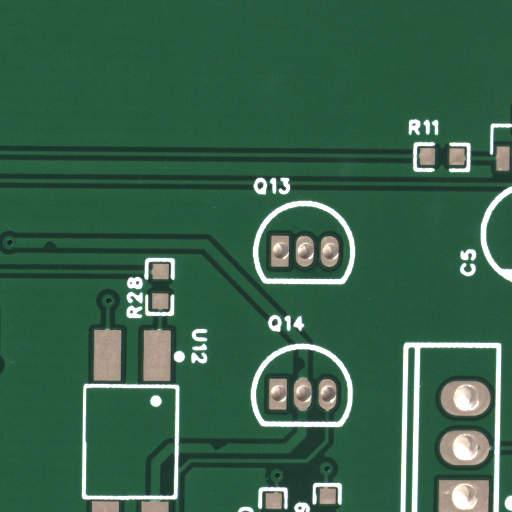Mouse_bite: (219, 446, 240, 456), (300, 363, 311, 381), (49, 244, 67, 253)
